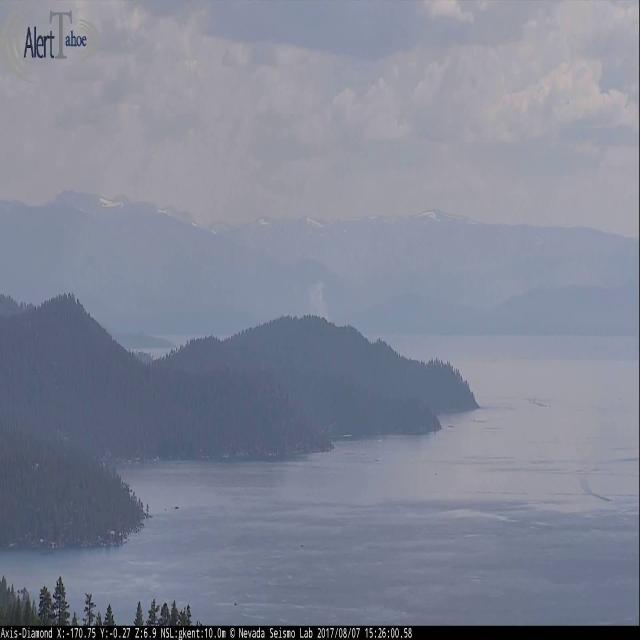smoke: (303, 277, 331, 325)
